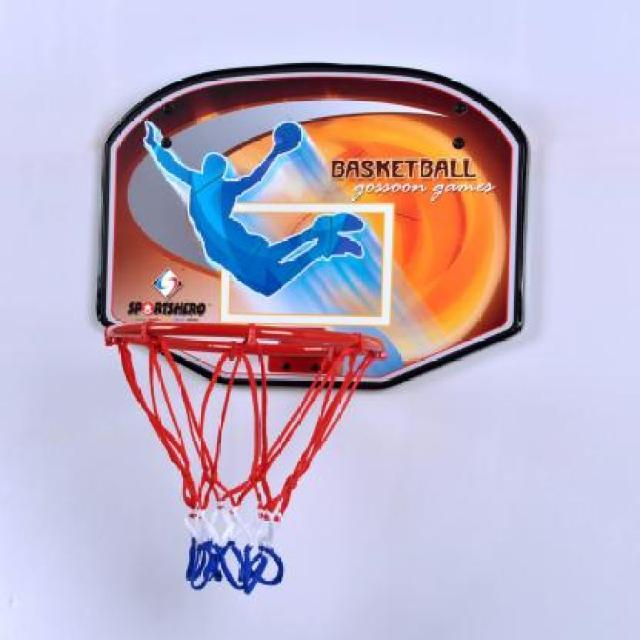rim: (105, 322, 387, 590)
